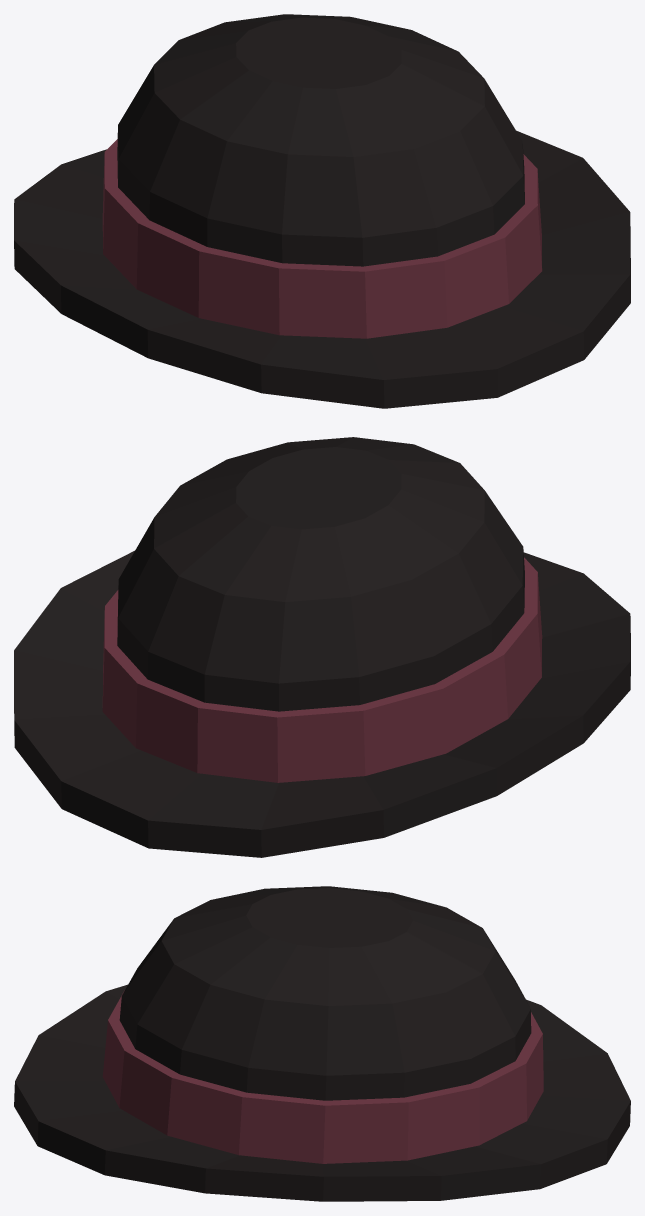
File: SM_Hat_Heavy.fbx
3 views of the same model, one above another, from view 1: azimuth 30°, elevation 25°; view 2: azimuth 150°, elevation 25°; view 3: azimuth 270°, elevation 25° (orthographic). The views are drawn at different scales.
Visible parts, largest first — view 1: Prop_Hat_Heavy; view 2: Prop_Hat_Heavy; view 3: Prop_Hat_Heavy.
Boxes of the visible parts, <box> form: Prop_Hat_Heavy: <box>14,14,630,408</box>; Prop_Hat_Heavy: <box>14,437,630,857</box>; Prop_Hat_Heavy: <box>14,886,630,1201</box>.
Size of the model in its own units: 31.32 by 36.32 by 13.67.
